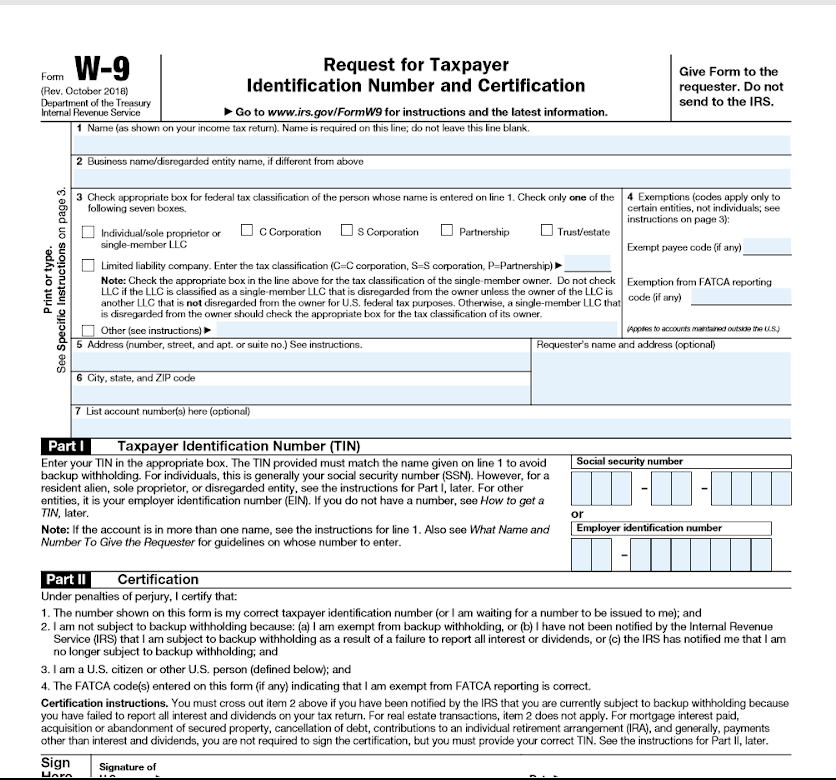checkbox: (80, 223, 96, 240), (238, 221, 254, 238), (338, 220, 354, 237), (438, 221, 454, 238), (538, 220, 554, 237), (80, 256, 96, 273), (80, 321, 96, 338)
textbox: (68, 399, 793, 442), (68, 119, 793, 157), (68, 152, 793, 190), (527, 335, 795, 408), (68, 335, 533, 373), (68, 369, 533, 407), (628, 535, 774, 573), (709, 468, 793, 507), (568, 468, 634, 507), (649, 469, 694, 507), (569, 534, 614, 572)
textline: (688, 285, 795, 308), (562, 253, 614, 275), (741, 235, 793, 257)
